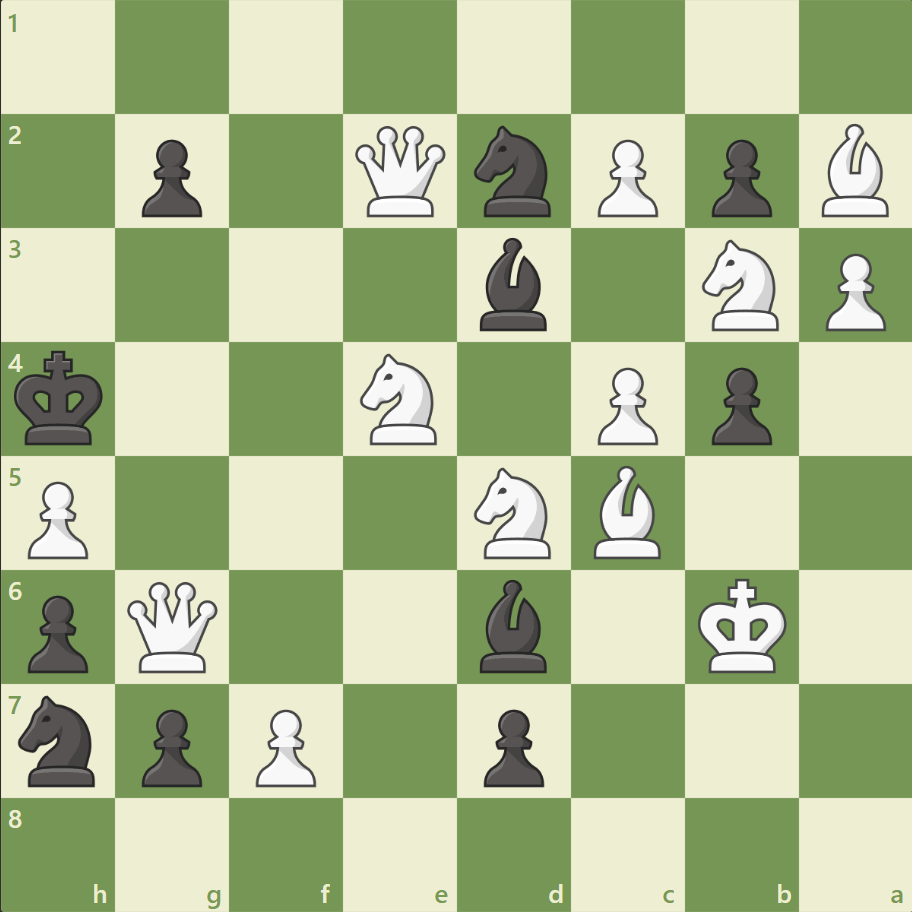B: (585, 460, 669, 563), (812, 120, 896, 222)
K: (692, 571, 792, 679)
N: (351, 348, 449, 450), (465, 461, 562, 564), (692, 234, 789, 337)
P: (247, 700, 322, 791), (20, 473, 95, 564), (588, 359, 662, 450), (815, 246, 889, 337), (588, 132, 662, 223)
Q: (124, 576, 223, 676), (351, 122, 450, 222)
b: (471, 233, 555, 336), (471, 574, 555, 676)
k: (11, 344, 111, 452)
n: (11, 688, 108, 791), (465, 121, 562, 223)
p: (474, 700, 549, 791), (133, 700, 208, 791), (20, 586, 95, 677), (701, 359, 776, 450), (701, 132, 776, 223), (133, 132, 208, 223)
